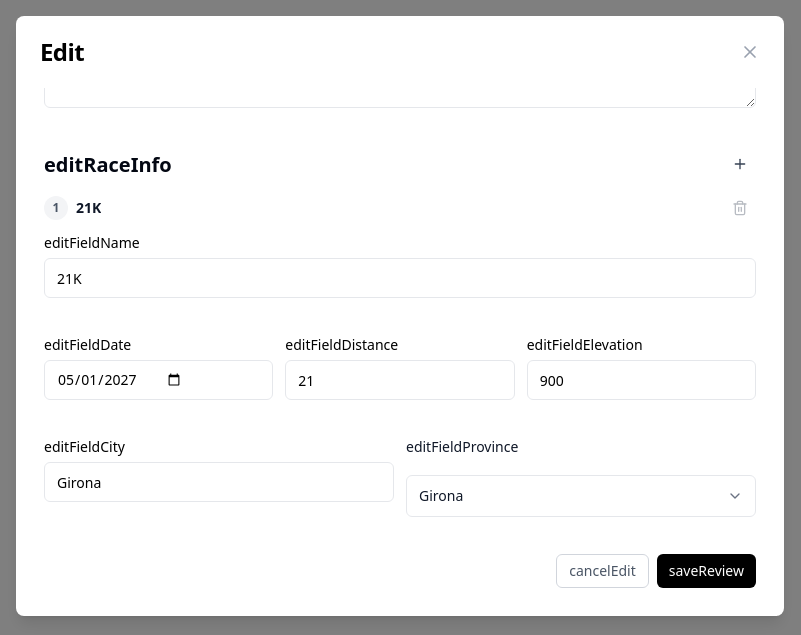
Test: EventRacesEditModal province selection › blocks saving an empty province with the custom error
The width and height of the screenshot is (801, 635).
(page scrolled)
Click the dropdown: (441, 496) 406,475 -> 756,517
(page scrolled)
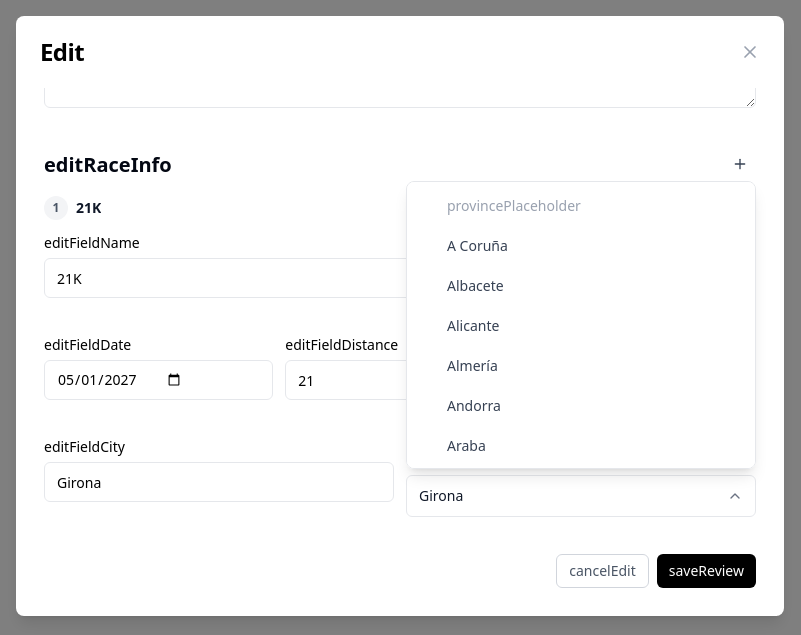
Click the option "provincePlaceholder": (581, 206) 411,186 -> 751,226
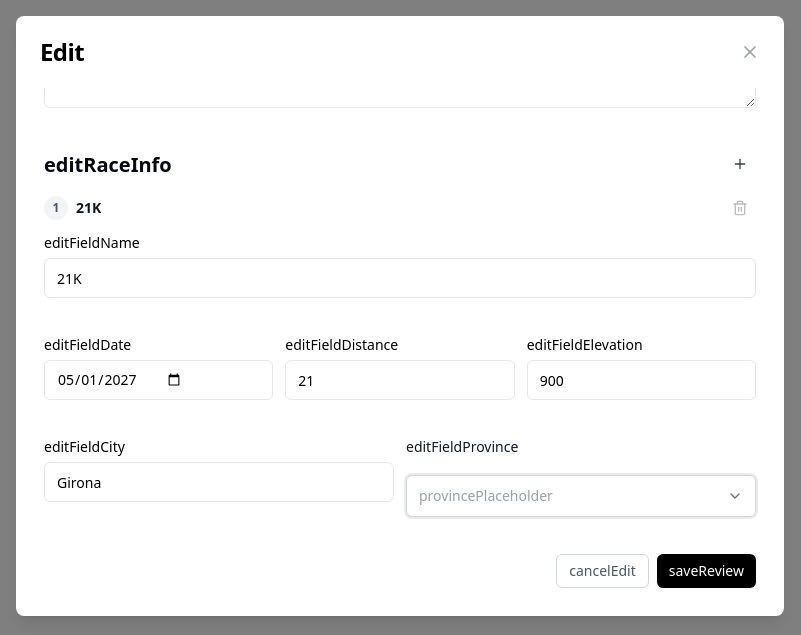
Click the button "saveReview": (706, 571) 657,554 -> 756,588
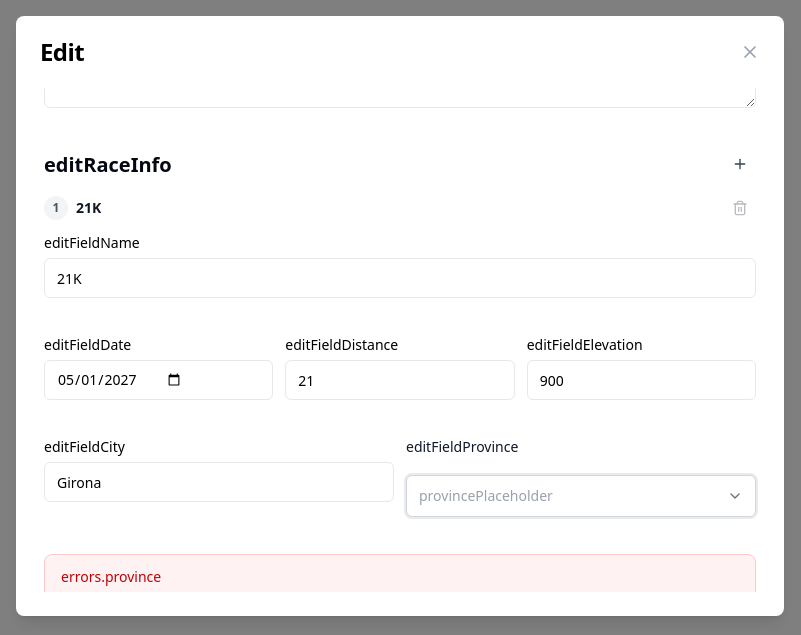
Expected: the text "errors.province" is shown, 44,554 -> 756,592
